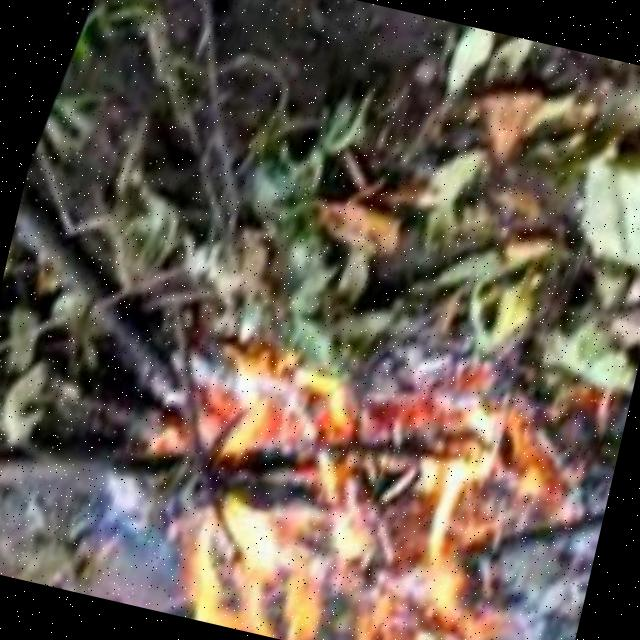fire: (100, 289, 601, 640)
